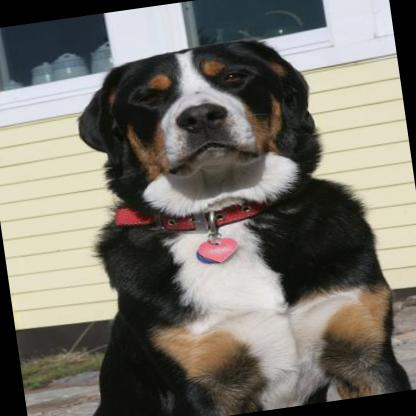Greater_Swiss_Mountain_dog: (0, 19, 414, 416)
